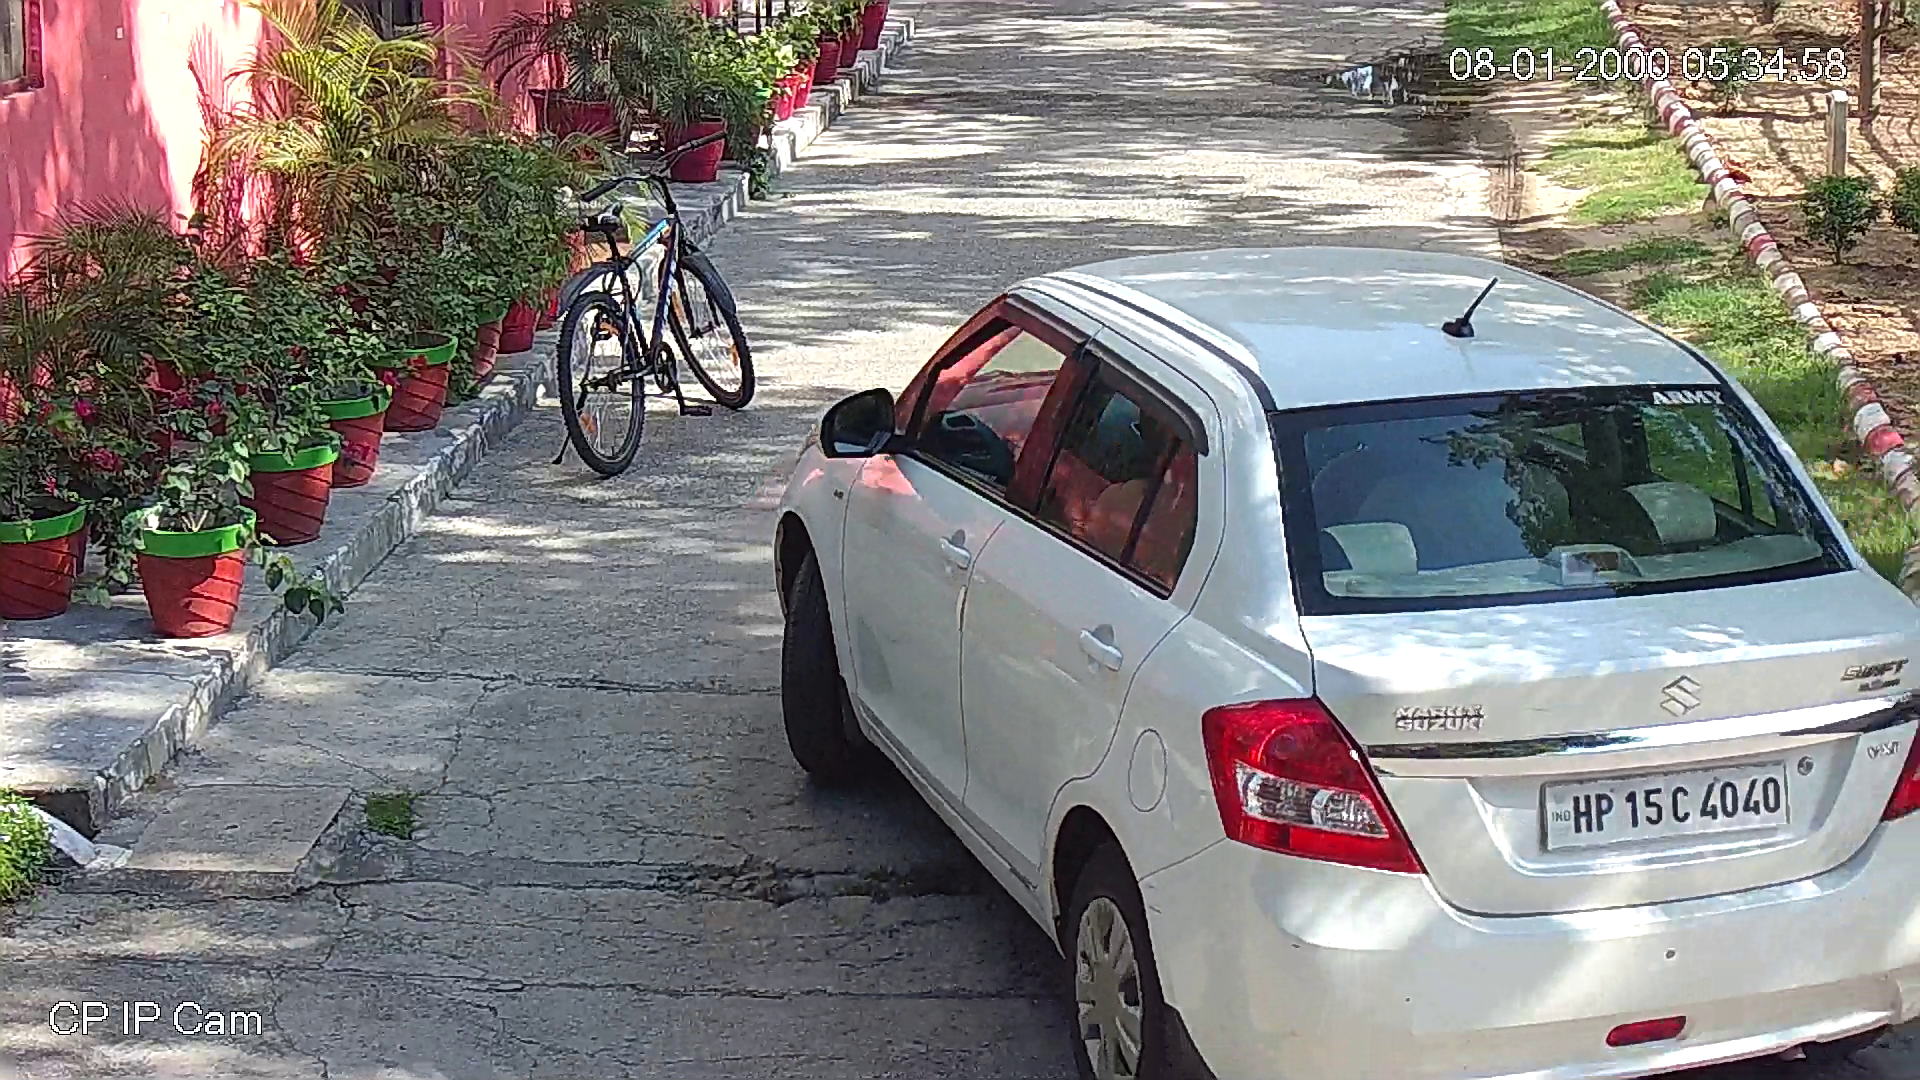plate: (1532, 751, 1795, 866)
